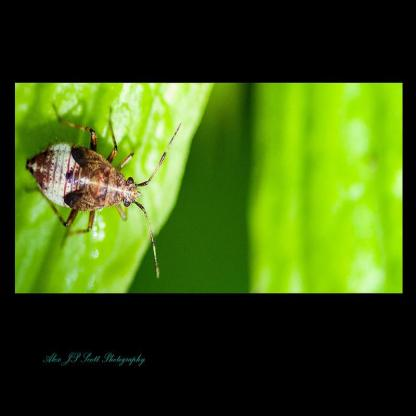aphid: (23, 93, 176, 269)
